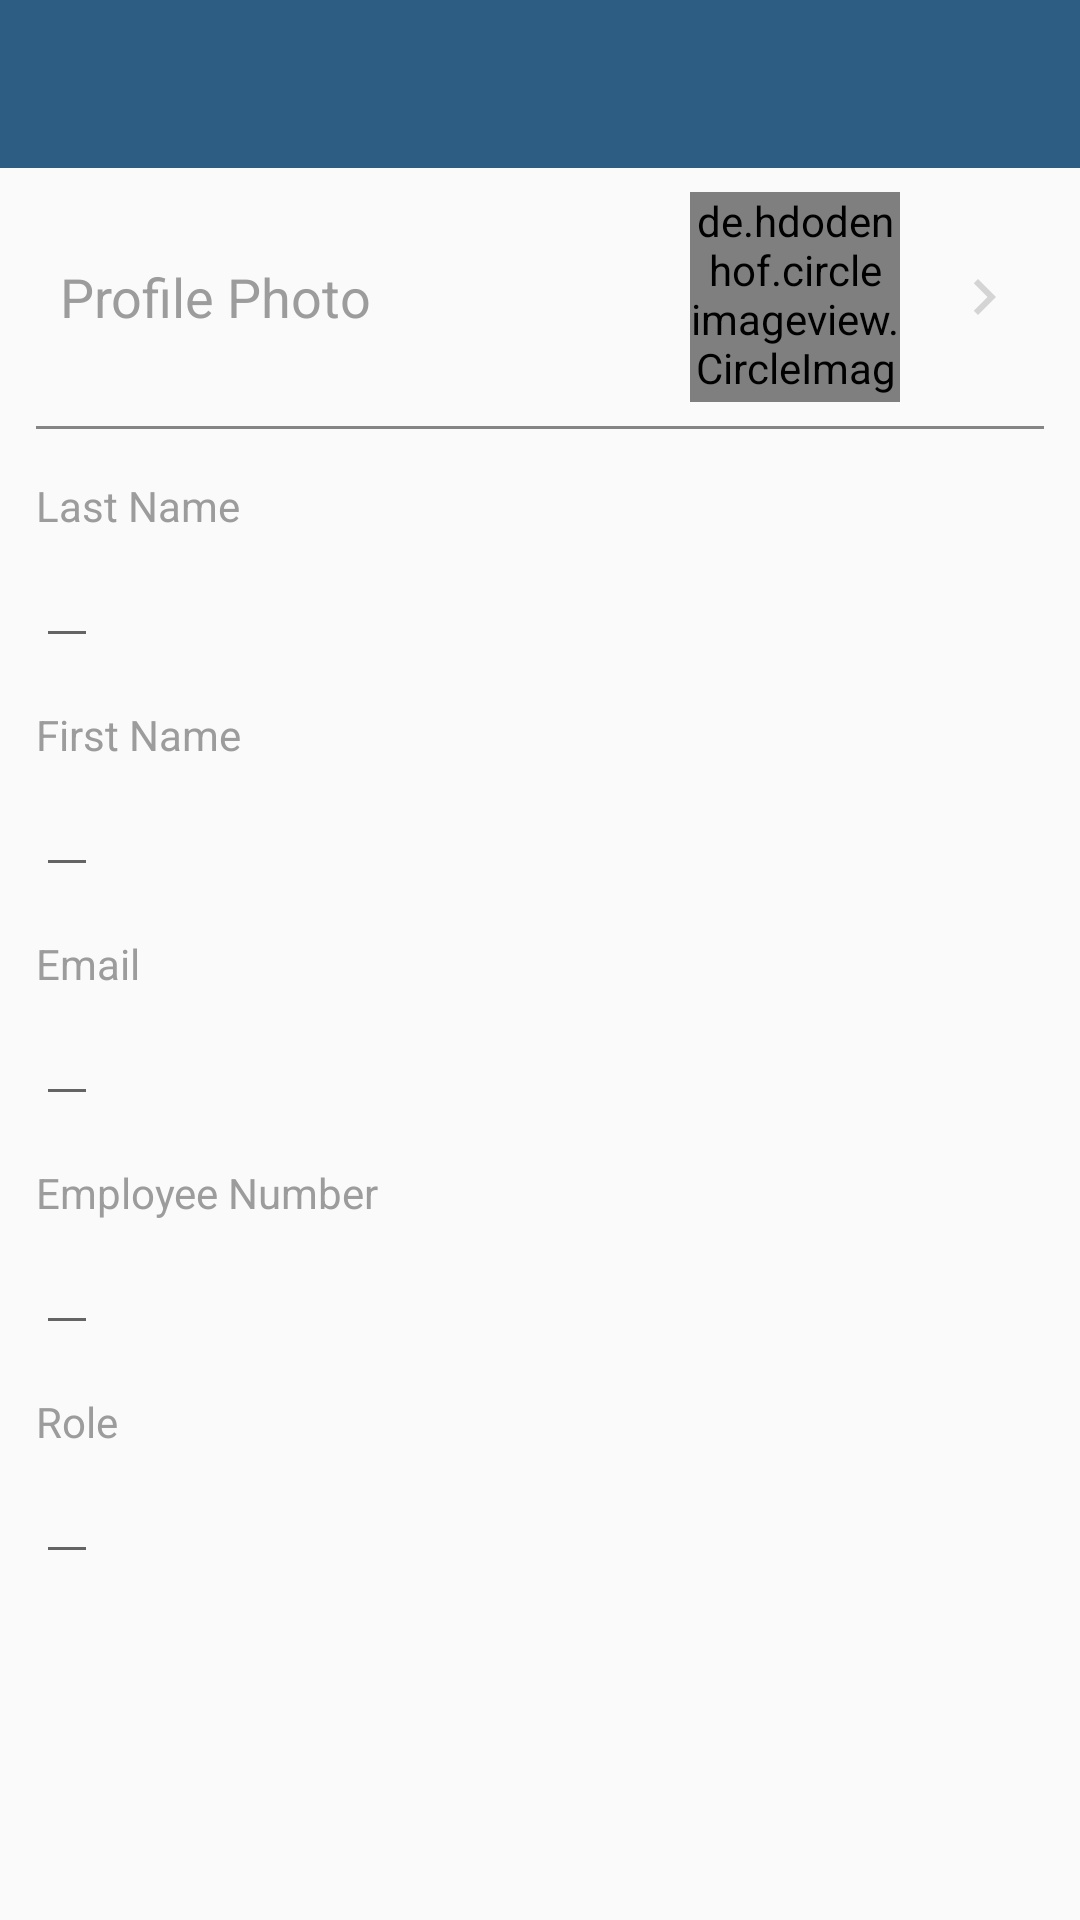

Named icons in this screenshot (1080x1920) and their bounding boxes, (x1, y1, x2, y2):
navigate next: (974, 280, 995, 314)
